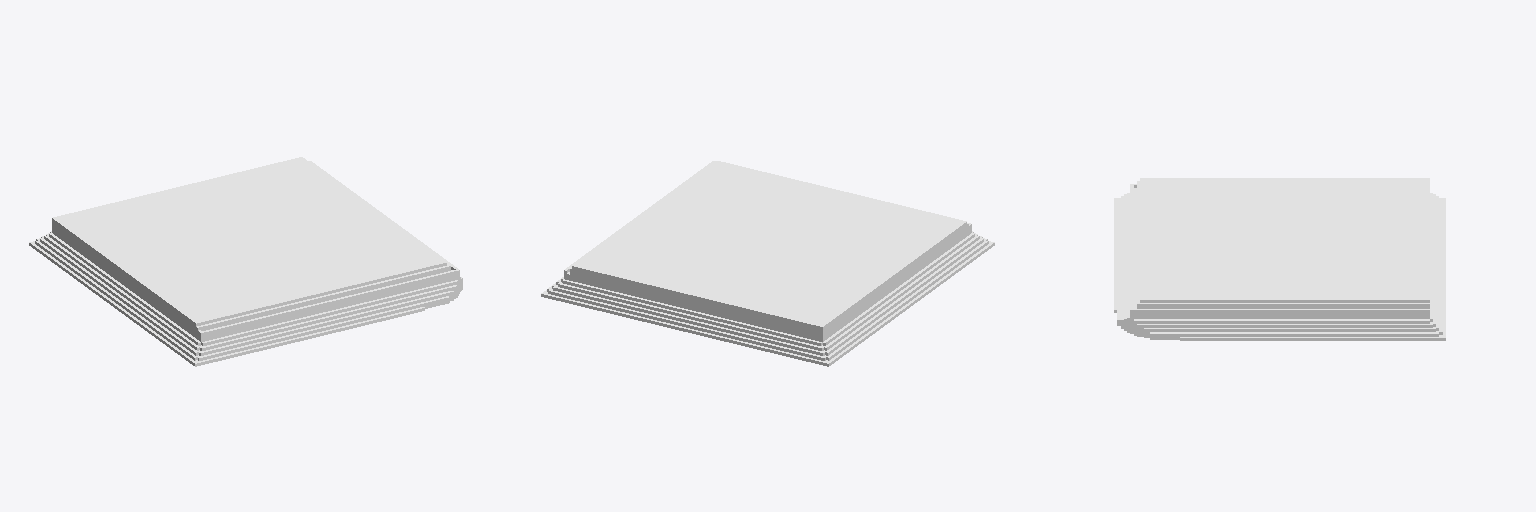
The model's file is PoliceDetailed-1.obj.
3 renders of one model, left to right at view 1: azimuth 30°, elevation 25°; view 2: azimuth 150°, elevation 25°; view 3: azimuth 270°, elevation 25°, orthographic.
Visible parts, largest first — view 1: PoliceDetailed-1; view 2: PoliceDetailed-1; view 3: PoliceDetailed-1.
Boxes of the visible parts, <box> form: PoliceDetailed-1: <box>29,157,462,366</box>; PoliceDetailed-1: <box>541,161,994,366</box>; PoliceDetailed-1: <box>1114,178,1445,340</box>.
Size of the model in its own units: 100 by 10 by 100.